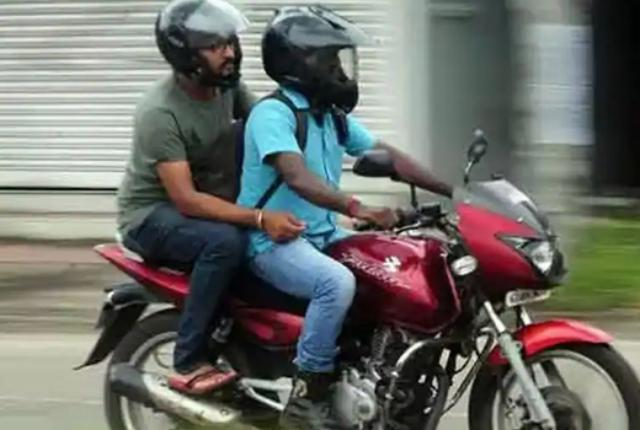helm: (260, 2, 368, 116), (153, 1, 250, 91)
motor: (70, 131, 640, 430)
